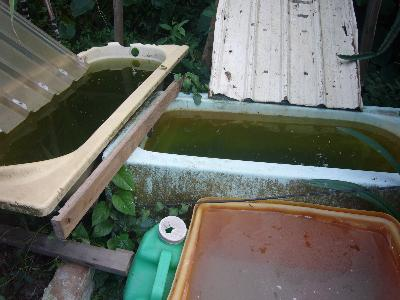tub: (101, 88, 400, 240), (1, 41, 192, 220)
